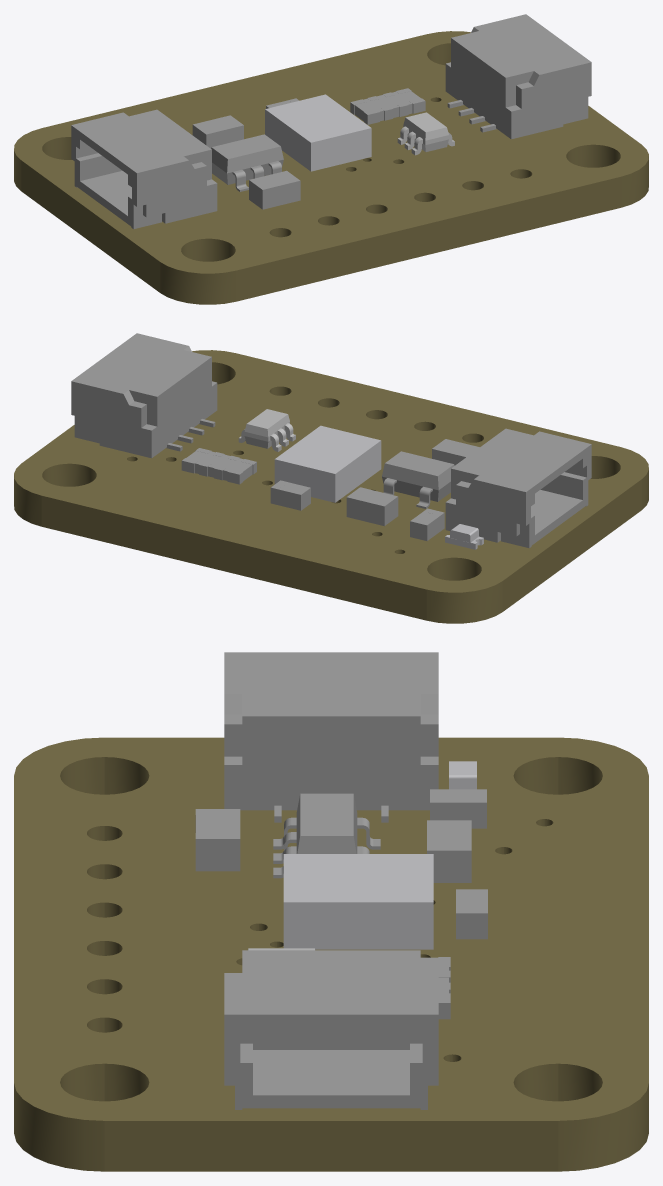
File: ada-6426.glb
The picture shows the model from 3 angles, top to bottom: view 1: azimuth 30°, elevation 25°; view 2: azimuth 150°, elevation 25°; view 3: azimuth 270°, elevation 25°; orthographic projection. The views are drawn at different scales.
Visible parts, largest first — view 1: 0.16666666666666666_0.16666666666666666_0.08333333333333333_, 0.3333333333333333_0.3333333333333333_0.3333333333333333_0, 0.5833333333333334_0.5833333333333334_0.5833333333333334_0.8, 0.5_0.5_0.5_0.85; view 2: 0.16666666666666666_0.16666666666666666_0.08333333333333333_, 0.3333333333333333_0.3333333333333333_0.3333333333333333_0, 0.5833333333333334_0.5833333333333334_0.5833333333333334_0.8, 0.5_0.5_0.5_0.85; view 3: 0.16666666666666666_0.16666666666666666_0.08333333333333333_, 0.3333333333333333_0.3333333333333333_0.3333333333333333_0, 0.5833333333333334_0.5833333333333334_0.5833333333333334_0.8.
Boxes of the visible parts, x1,y1,x2,y2 form: 0.16666666666666666_0.16666666666666666_0.08333333333333333_: (14,31,648,304); 0.3333333333333333_0.3333333333333333_0.3333333333333333_0: (71,14,591,229); 0.5833333333333334_0.5833333333333334_0.5833333333333334_0.8: (265,94,371,171); 0.5_0.5_0.5_0.85: (397,112,454,155); 0.16666666666666666_0.16666666666666666_0.08333333333333333_: (14,350,648,623); 0.3333333333333333_0.3333333333333333_0.3333333333333333_0: (71,333,591,548); 0.5833333333333334_0.5833333333333334_0.5833333333333334_0.8: (274,425,483,549); 0.5_0.5_0.5_0.85: (238,409,295,451); 0.16666666666666666_0.16666666666666666_0.08333333333333333_: (14,737,648,1171); 0.3333333333333333_0.3333333333333333_0.3333333333333333_0: (195,652,487,1109); 0.5833333333333334_0.5833333333333334_0.5833333333333334_0.8: (283,761,476,949).
Bounding box in the file's own units: 2.54 × 0.4529 × 1.78.
